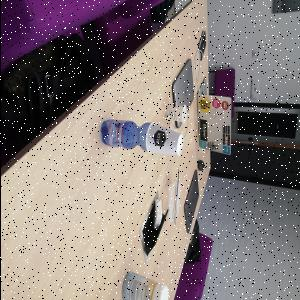Cup: (146, 123, 184, 157), (166, 106, 187, 125)
Plastic-bottle: (100, 120, 146, 153)
